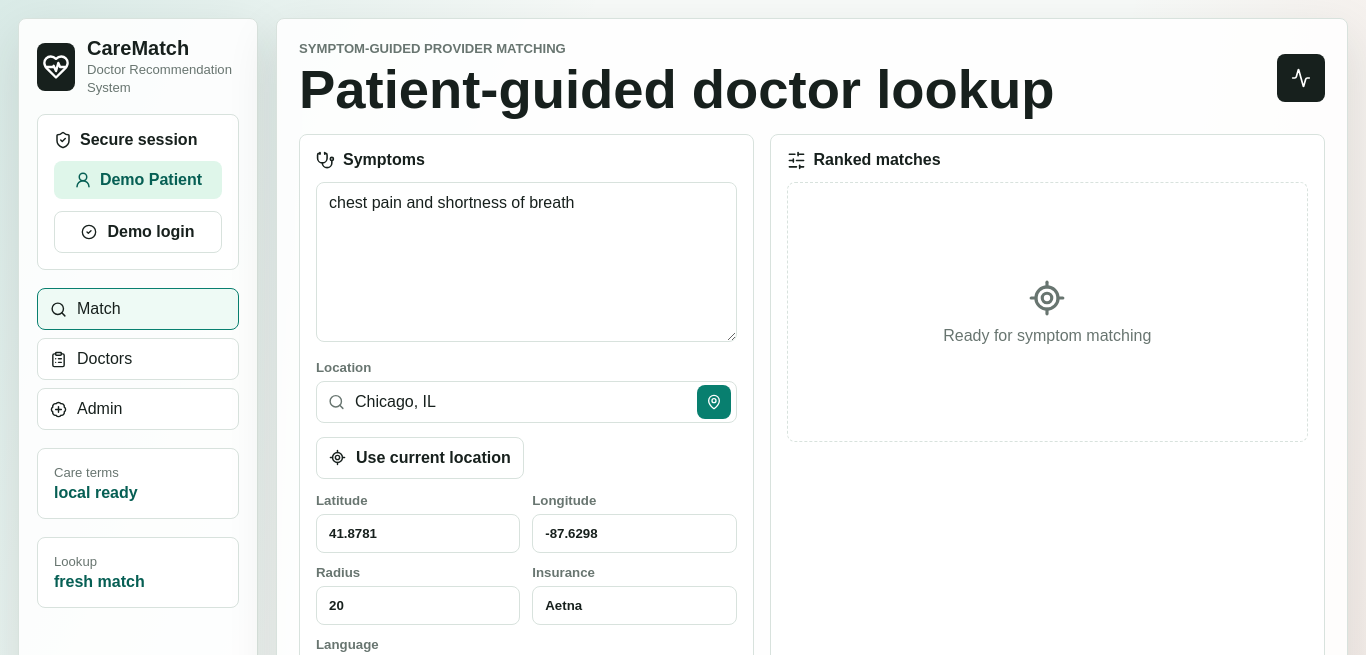
it: searches a natural-language location and updates coordinates
Replace the text in the dropdown labelled "Location" with "Boston Children's Hospital": (526, 402) [316, 381, 736, 423]
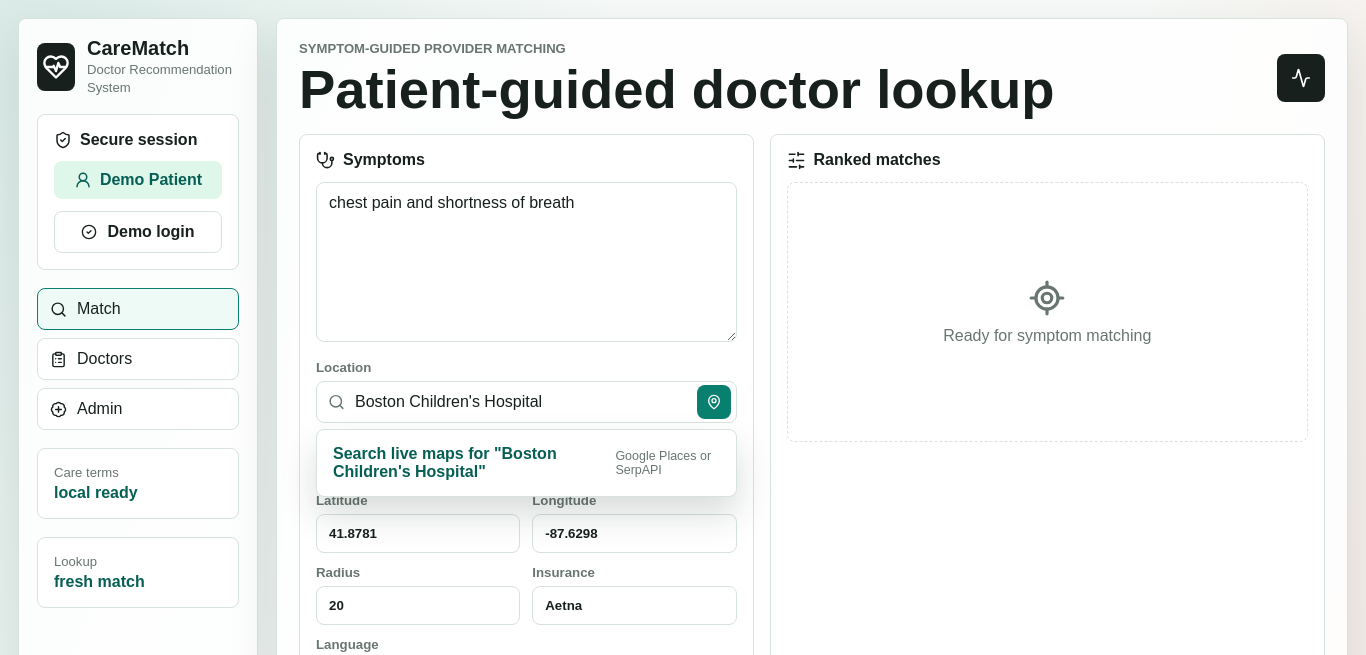
Click the button named "search location": (714, 402) [696, 385, 730, 419]
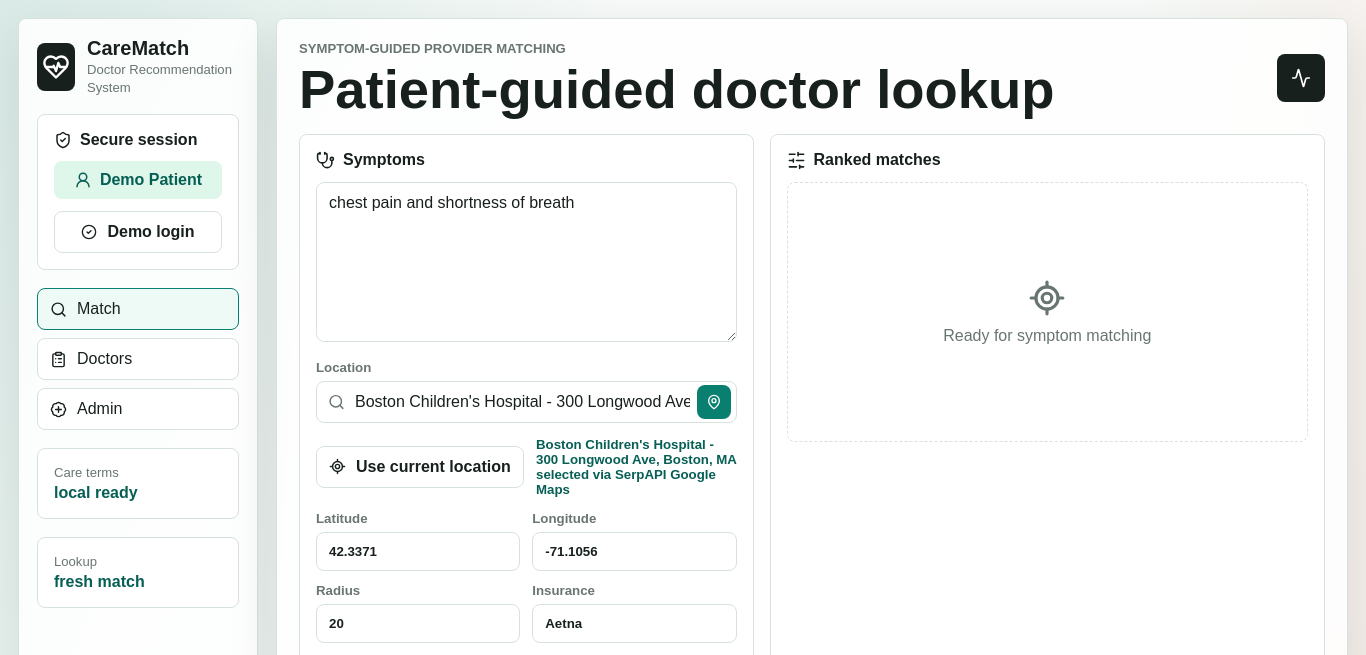
Expected: the number field labelled "Latitude" holds "42.3371", [316, 532, 520, 571]
Expected: the number field labelled "Longitude" holds "-71.1056", [532, 532, 737, 571]
Expected: the text "selected via SerpAPI Google Maps" is shown, [536, 437, 736, 497]
